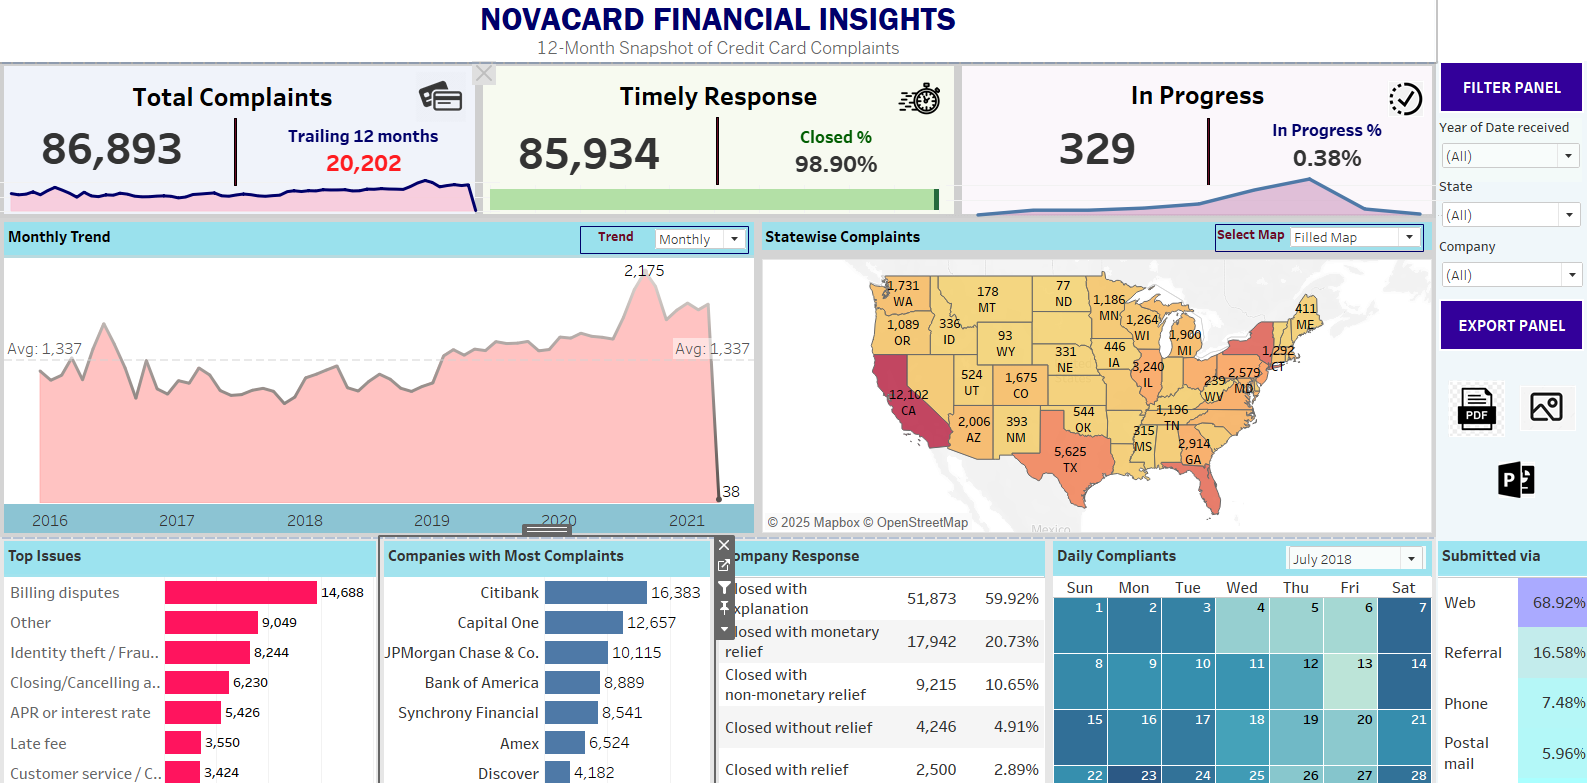

Layout of this report page (visuals, bound fields, positions):
{"tool":"tableau","page":{"name":"Dashboard 1","canvas":[1600,900],"ordinal":0},"visuals":[{"type":"title","box":[8,8,1436,64]},{"type":"dashboard-object","box":[480,71,24,24]},{"type":"text","box":[1447,71,146,52]},{"type":"blank","box":[8,72,479,156]},{"type":"blank","box":[487,72,479,156]},{"type":"blank","box":[966,72,478,156]},{"type":"image","param":"C:/Users/13478/Documents/Job Search 2025/Portfolio/Tableau/Credit Card Complaint","box":[416,81,66,51]},{"type":"text","box":[1070,81,271,45]},{"type":"text","box":[591,82,271,45]},{"type":"text","box":[105,83,271,45]},{"type":"image","param":"C:/Users/13478/Documents/Job Search 2025/Portfolio/Tableau/Credit Card Complaint","box":[899,87,57,42]},{"type":"image","param":"C:/Users/13478/Documents/Job Search 2025/Portfolio/Tableau/Credit Card Complaint","box":[1390,90,47,37]},{"type":"blank","box":[724,127,3,68]},{"type":"worksheet","title":"Total Complaints","mark":"Automatic","box":[31,128,178,58]},{"type":"blank","box":[242,128,3,68]},{"type":"blank","box":[1215,128,3,68]},{"type":"worksheet","title":"In Progress %","mark":"Automatic","box":[1245,128,181,56]},{"type":"filter","title":"Daily Compliants","param":"[federated.0n24vul01rarq71a6cwfl09k32zr].[yr:Date received:ok]","box":[1447,128,144,64]},{"type":"worksheet","title":"In Progress Complaints","mark":"Automatic","box":[1060,129,92,56]},{"type":"worksheet","title":"Closed %","mark":"Automatic","box":[742,131,205,64]},{"type":"worksheet","title":"Rolling 12 months complaints","mark":"Automatic","box":[276,132,192,59]},{"type":"worksheet","title":"Timely Response","mark":"Automatic","box":[520,134,154,55]},{"type":"worksheet","title":"In Progress Spark Line","mark":"Automatic","rows":["Calculation_1476617775487422470","Calculation_1476617775487422470"],"cols":["Date received"],"box":[954,185,505,43]},{"type":"filter","title":"Filled Map","param":"[federated.0n24vul01rarq71a6cwfl09k32zr].[none:State:nk]","box":[1447,187,145,58]},{"type":"worksheet","title":"Progress Bar","mark":"Bar","cols":["Calculation_1476617775485222917","Calculation_1476617775478734850"],"box":[498,195,471,28]},{"type":"worksheet","title":"Trend","mark":"Automatic","rows":["Number of Records","Number of Records"],"cols":["Calculation_1069042010007416832"],"box":[8,228,758,319]},{"type":"text","box":[766,228,678,36]},{"type":"parameter","param":"[Parameters].[Parameter 3]","box":[1223,234,209,28]},{"type":"parameter","param":"[Parameters].[Parameter 2]","box":[588,236,169,28]},{"type":"filter","title":"Company Response","param":"[federated.0n24vul01rarq71a6cwfl09k32zr].[none:Company:nk]","box":[1447,247,148,53]},{"type":"worksheet","title":"Density Map","mark":"Heatmap","box":[766,264,678,1]},{"type":"worksheet","title":"Filled Map","mark":"Multipolygon","box":[766,265,678,282]},{"type":"text","box":[1447,309,146,52]},{"type":"dashboard-object","box":[1454,390,60,57]},{"type":"dashboard-object","box":[1527,391,57,54]},{"type":"dashboard-object","box":[1504,471,40,37]},{"type":"worksheet","title":"Top Issues","mark":"Automatic","rows":["Issue"],"cols":["Number of Records"],"box":[8,547,380,345]},{"type":"worksheet","title":"Companies with Most Complaints","mark":"Automatic","rows":["Company"],"cols":["Number of Records"],"box":[388,547,334,345]},{"type":"worksheet","title":"Company Response","mark":"Automatic","rows":["Company response to consumer"],"box":[723,547,334,345]},{"type":"worksheet","title":"Daily Compliants","mark":"Square","rows":["Date received"],"cols":["Date received"],"box":[1057,547,387,345]},{"type":"worksheet","title":"Submitted via","mark":"Square","rows":["Submitted via"],"box":[1446,551,154,339]},{"type":"filter","title":"Daily Compliants","param":"[federated.0n24vul01rarq71a6cwfl09k32zr].[my:Date received:ok]","box":[1290,552,148,31]}]}

Visuals, with their boxes on the page's 1600x900 design canvas (x1, y1, x2, y2). These are canvas units, not pixel positions in the 1587x783 screenshot, which may show the page scaled, cropped or inside an application window:
title: 8/8/1444/72
dashboard-object: 480/71/504/95
text: 1447/71/1593/123
blank: 8/72/487/228
blank: 487/72/966/228
blank: 966/72/1444/228
image: 416/81/482/132
text: 1070/81/1341/126
text: 591/82/862/127
text: 105/83/376/128
image: 899/87/956/129
image: 1390/90/1437/127
blank: 724/127/727/195
"Total Complaints" worksheet: 31/128/209/186
blank: 242/128/245/196
blank: 1215/128/1218/196
"In Progress %" worksheet: 1245/128/1426/184
"Daily Compliants" filter: 1447/128/1591/192
"In Progress Complaints" worksheet: 1060/129/1152/185
"Closed %" worksheet: 742/131/947/195
"Rolling 12 months complaints" worksheet: 276/132/468/191
"Timely Response" worksheet: 520/134/674/189
"In Progress Spark Line" worksheet: 954/185/1459/228
"Filled Map" filter: 1447/187/1592/245
"Progress Bar" worksheet (Bar marks): 498/195/969/223
"Trend" worksheet: 8/228/766/547
text: 766/228/1444/264
parameter: 1223/234/1432/262
parameter: 588/236/757/264
"Company Response" filter: 1447/247/1595/300
"Density Map" worksheet (Heatmap marks): 766/264/1444/265
"Filled Map" worksheet (Multipolygon marks): 766/265/1444/547
text: 1447/309/1593/361
dashboard-object: 1454/390/1514/447
dashboard-object: 1527/391/1584/445
dashboard-object: 1504/471/1544/508
"Top Issues" worksheet: 8/547/388/892
"Companies with Most Complaints" worksheet: 388/547/722/892
"Company Response" worksheet: 723/547/1057/892
"Daily Compliants" worksheet (Square marks): 1057/547/1444/892
"Submitted via" worksheet (Square marks): 1446/551/1600/890
"Daily Compliants" filter: 1290/552/1438/583
